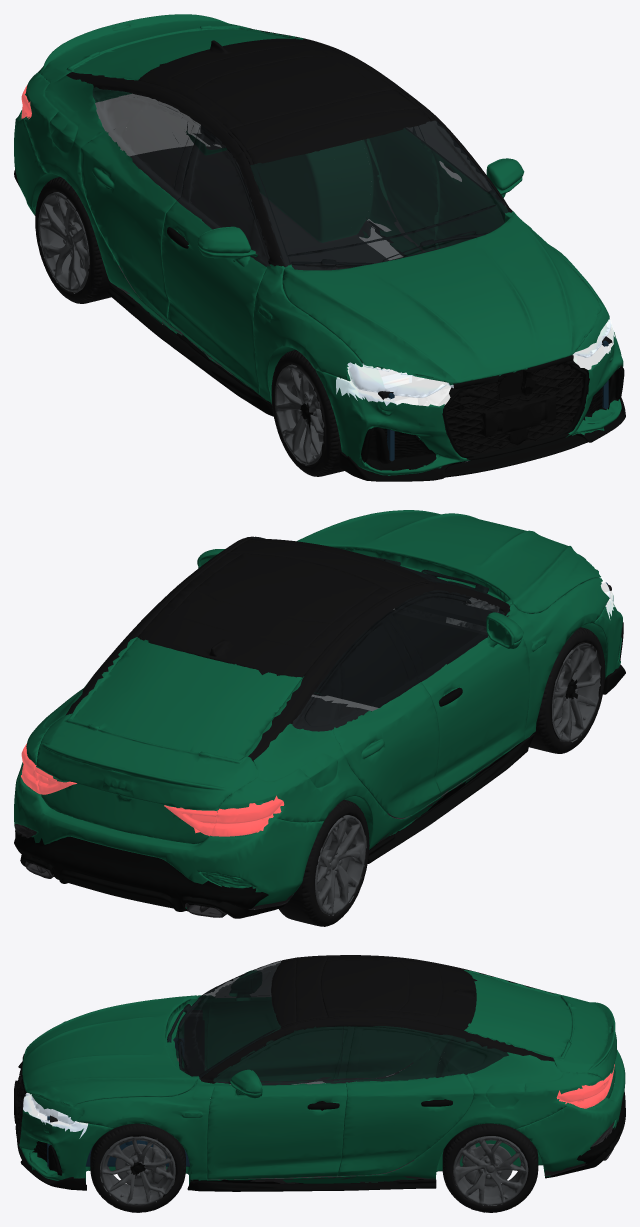
File: kessler_gt6.glb
3 renders of one model, top to bottom at view 1: azimuth 30°, elevation 25°; view 2: azimuth 150°, elevation 25°; view 3: azimuth 270°, elevation 25°, orthographic. The views are drawn at different scales.
Parts seen in each view (by area): view 1: Glass, HoodPanel, Roof_3, Paint_0, Paint_6, Paint_19, Paint_24, Paint_1, Grille_2, Paint_20, Paint_28, Paint_17 (+18 smaller); view 2: Paint_1, Roof_3, Paint_6, HoodPanel, Glass, Paint_19, Paint_24, Firewall, Black_32, Paint_20, Rim2, Rim4 (+13 smaller); view 3: Glass, Roof_3, Paint_6, HoodPanel, Paint_13, Paint_1, Paint_17, Paint_19, Paint_30, Paint_24, Rim, Rim3 (+15 smaller).
Part boxes in pixels (<box>): Glass: <box>92,87,508,270</box>; HoodPanel: <box>282,211,608,385</box>; Roof_3: <box>66,28,512,266</box>; Paint_0: <box>34,130,604,395</box>; Paint_6: <box>14,73,423,335</box>; Paint_19: <box>162,201,267,394</box>; Paint_24: <box>80,131,177,330</box>; Paint_1: <box>37,14,303,91</box>; Grille_2: <box>439,363,585,455</box>; Paint_20: <box>253,264,362,403</box>; Paint_28: <box>315,369,470,475</box>; Paint_17: <box>367,128,438,251</box>; Paint_1: <box>36,637,303,844</box>; Roof_3: <box>65,536,510,761</box>; Paint_6: <box>14,680,447,909</box>; HoodPanel: <box>297,510,600,613</box>; Glass: <box>250,536,509,731</box>; Paint_19: <box>421,638,529,797</box>; Paint_24: <box>332,682,442,818</box>; Firewall: <box>315,610,487,707</box>; Black_32: <box>14,830,268,911</box>; Paint_20: <box>506,578,609,740</box>; Rim2: <box>315,815,366,915</box>; Rim4: <box>552,643,601,742</box>; Glass: <box>167,961,508,1085</box>; Roof_3: <box>199,955,554,1083</box>; Paint_6: <box>238,1035,625,1183</box>; HoodPanel: <box>22,995,200,1115</box>; Paint_13: <box>198,1069,347,1180</box>; Paint_1: <box>463,969,616,1098</box>; Paint_17: <box>338,1073,473,1176</box>; Paint_19: <box>207,997,343,1084</box>; Paint_30: <box>68,1080,215,1180</box>; Paint_24: <box>338,1026,443,1079</box>; Rim: <box>453,1136,528,1205</box>; Rim3: <box>100,1136,175,1205</box>.
Bounding box in the file's own units: 2.11 × 1.53 × 4.65.
28 materials, 3 textured.
